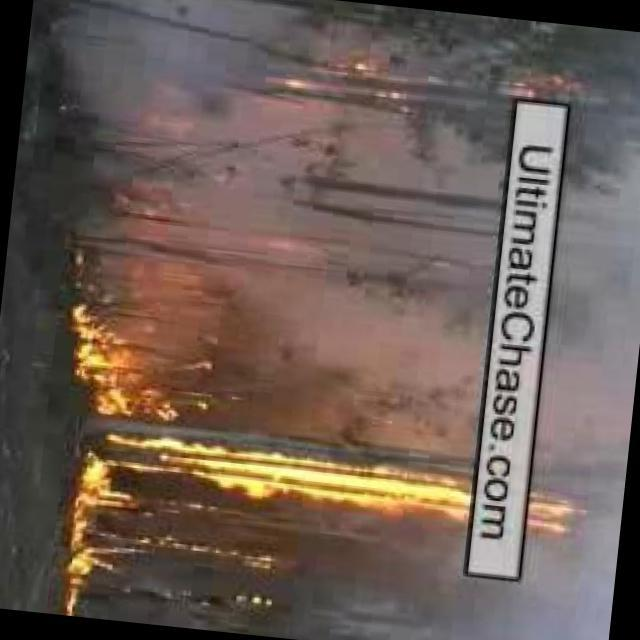Fire: (72, 425, 600, 559), (69, 330, 230, 429), (55, 508, 88, 612)
